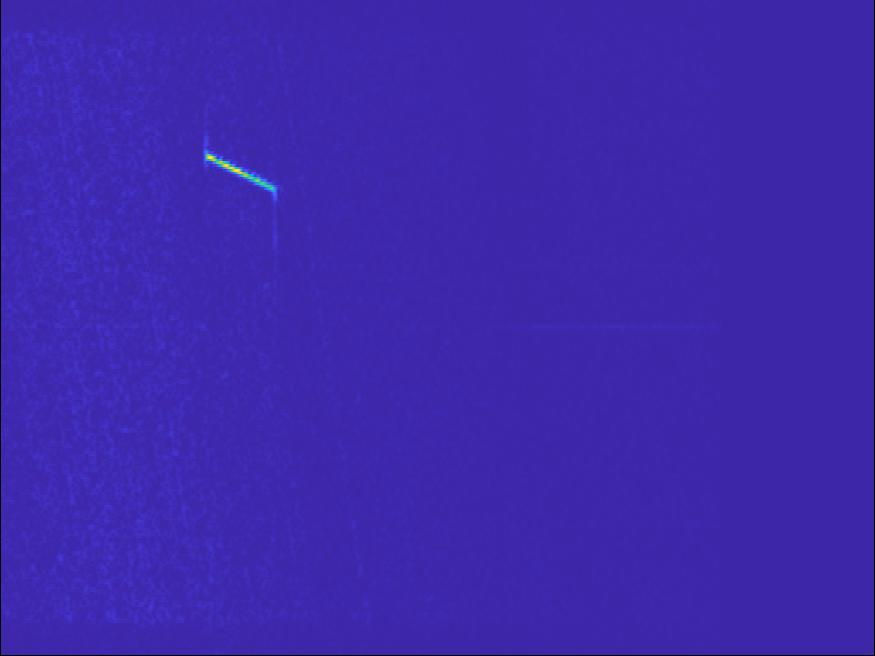Interference: (312, 1, 468, 121), (224, 285, 437, 367), (107, 394, 221, 429)
